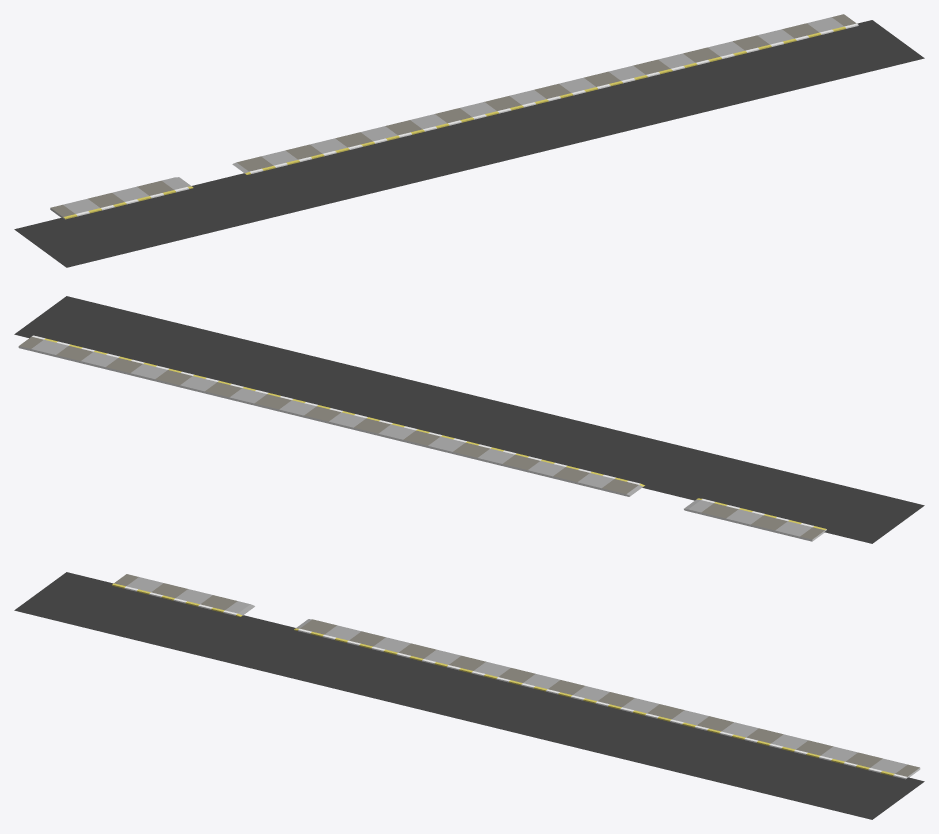
The model's file is way.fbx.
3 renders of one model, top to bottom at view 1: azimuth 30°, elevation 25°; view 2: azimuth 150°, elevation 25°; view 3: azimuth 330°, elevation 25°, orthographic.
Visible parts, largest first — view 1: way; view 2: way; view 3: way.
Boxes of the visible parts, x1,y1,x2,y2 form: way: (14,14,924,267); way: (14,296,924,543); way: (14,572,924,819).
Bounding box in the file's own units: 15931 × 37.35 × 2071.
